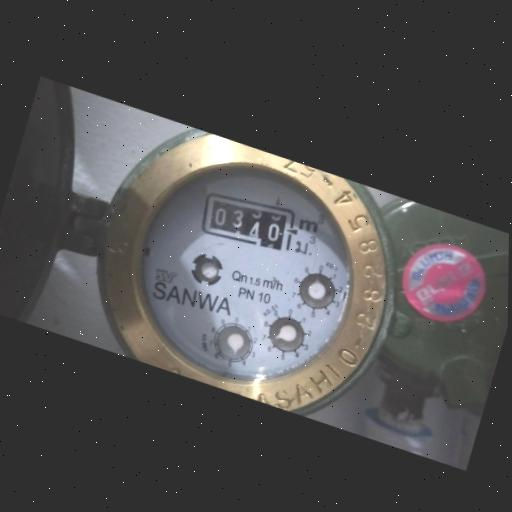0: (255, 207, 289, 252), (205, 197, 235, 233)
3: (223, 201, 253, 238), (242, 205, 268, 241)
border_water_meter_number: (194, 181, 300, 263)
